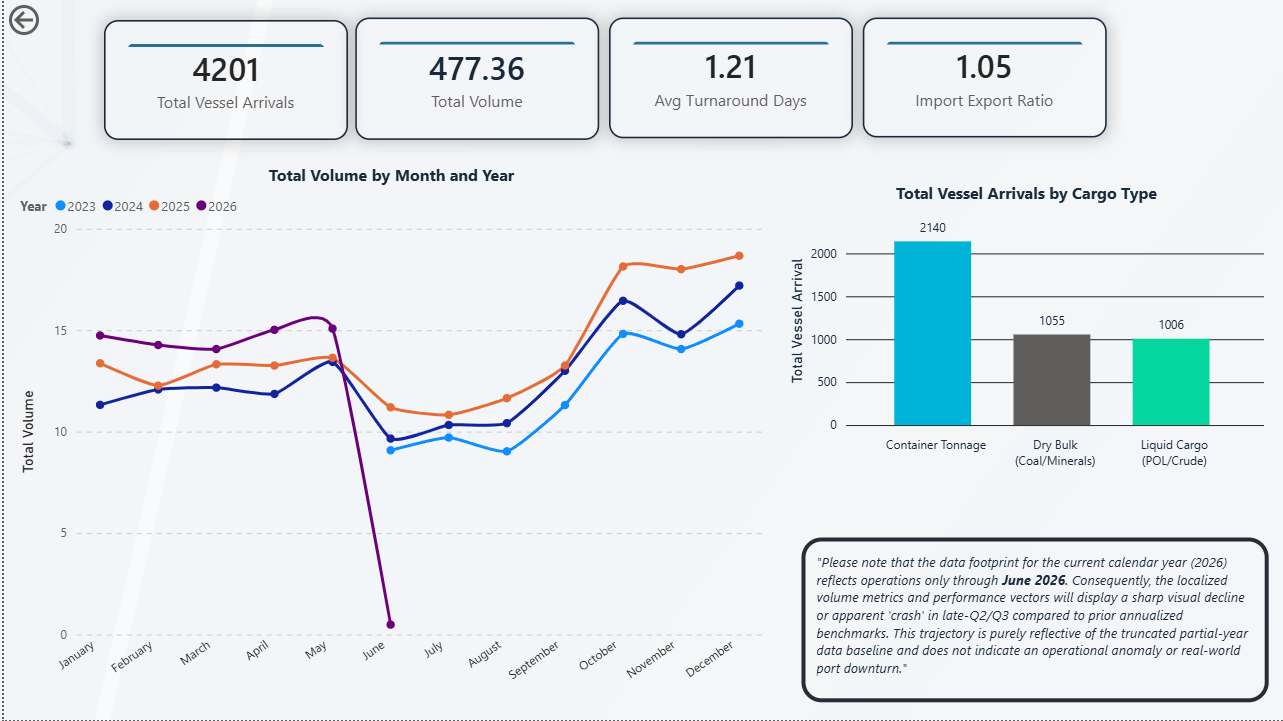

This screenshot's page, from the dashboard's own definition file:
{"tool":"powerbi","page":{"name":"Strategic Macro Trends","canvas":[1280,720],"ordinal":1},"visuals":[{"type":"actionButton","box":[0,0,100,40],"z":0},{"type":"cardVisual","fields":{"Data":["daily_port_cargo.Total Volume"]},"box":[351.6,18.1,244.2,122.1],"z":1000},{"type":"cardVisual","fields":{"Data":["daily_port_cargo.Total Vessel Arrivals"]},"box":[99.5,20.4,244.2,119.8],"z":2000},{"type":"cardVisual","fields":{"Data":["daily_port_cargo.Avg Turnaround Days"]},"box":[604.9,18.1,244.2,121],"z":3000},{"type":"cardVisual","fields":{"Data":["daily_port_cargo.Import Export Ratio"]},"box":[858.2,18.1,244.2,119.8],"z":4000},{"type":"clusteredColumnChart","title":"Total Vessel Arrivals by Cargo Type","fields":{"Category":["daily_port_cargo.Cargo_Type"],"Y":["daily_port_cargo.Total Vessel Arrivals"]},"box":[780,181.2,485,295],"z":5000},{"type":"lineChart","title":"Total Volume by Month and Year","fields":{"Y":["daily_port_cargo.Total Volume"],"Series":["daily_port_cargo.Year"],"Category":["daily_port_cargo.Full_Month_Name"]},"box":[11.2,163.8,752.5,538.8],"z":6000},{"type":"textbox","box":[797.5,537.5,467.5,165],"z":7000}]}

Visuals, with their boxes in screenshot pixels (x1, y1, x2, y2), scaled from the page's 1280x720 canvas onto the 1283x721 screenshot:
actionButton: [left=0, top=0, right=100, bottom=40]
cardVisual - daily_port_cargo.Total Volume: [left=352, top=18, right=597, bottom=140]
cardVisual - daily_port_cargo.Total Vessel Arrivals: [left=100, top=20, right=345, bottom=140]
cardVisual - daily_port_cargo.Avg Turnaround Days: [left=606, top=18, right=851, bottom=139]
cardVisual - daily_port_cargo.Import Export Ratio: [left=860, top=18, right=1105, bottom=138]
"Total Vessel Arrivals by Cargo Type" clusteredColumnChart: [left=782, top=181, right=1268, bottom=477]
"Total Volume by Month and Year" lineChart: [left=11, top=164, right=765, bottom=704]
textbox: [left=799, top=538, right=1268, bottom=703]
